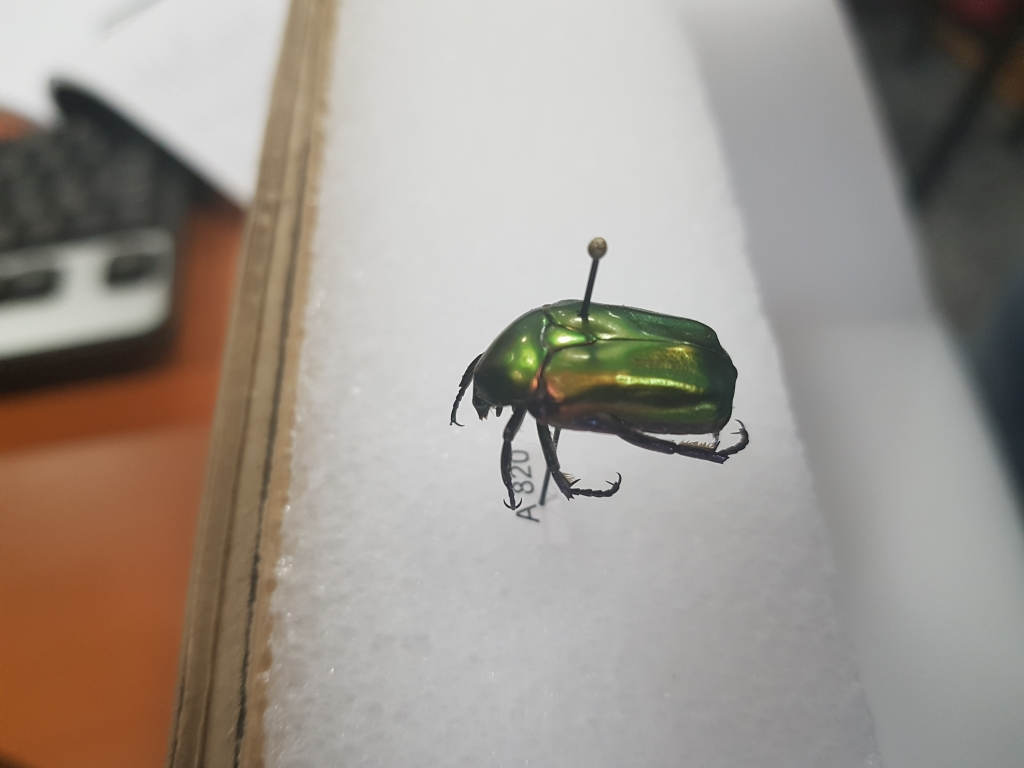Protaetia_cuprea_ignicollis: (449, 295, 752, 509)
